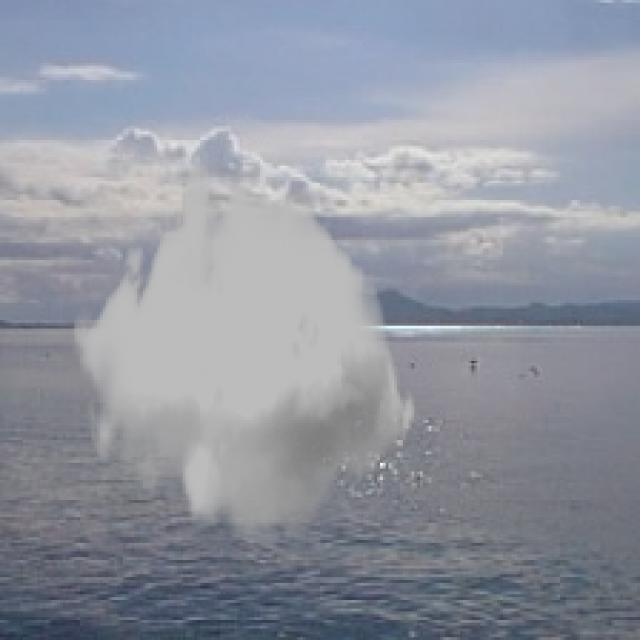smoke: (72, 166, 417, 548)
